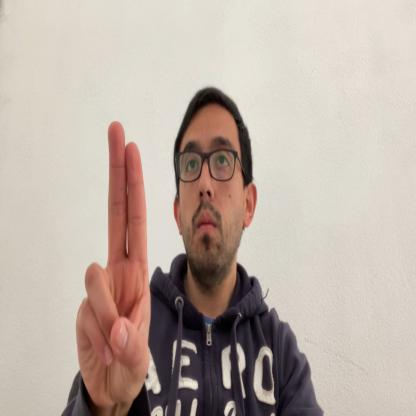U: (76, 118, 153, 415)
